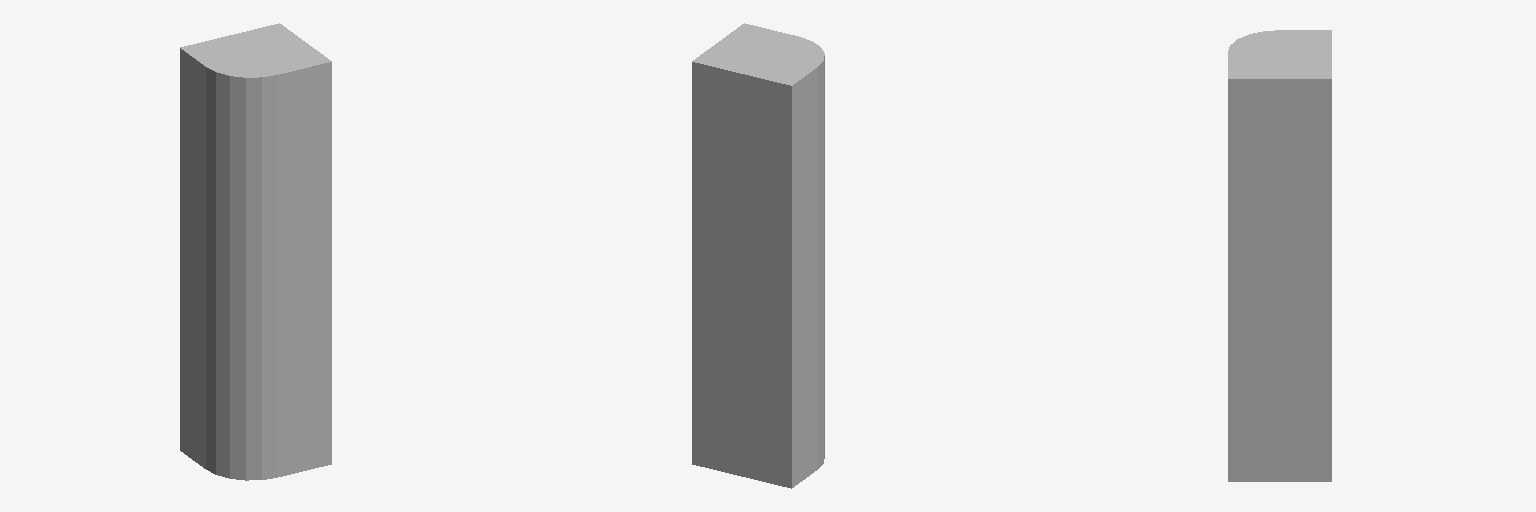
File: separador.obj
3 views of the same model, side by side, from view 1: azimuth 30°, elevation 25°; view 2: azimuth 150°, elevation 25°; view 3: azimuth 270°, elevation 25° (orthographic).
Visible parts, largest first — view 1: polySurface9 modulo_izquierda_pCube19; view 2: polySurface9 modulo_izquierda_pCube19; view 3: polySurface9 modulo_izquierda_pCube19.
Boxes of the visible parts, box(x1,y1,x2,y2) form: polySurface9 modulo_izquierda_pCube19: box(180, 23, 331, 480); polySurface9 modulo_izquierda_pCube19: box(692, 23, 824, 488); polySurface9 modulo_izquierda_pCube19: box(1228, 30, 1331, 481).
Bounding box in the file's own units: 128 × 494 × 116.